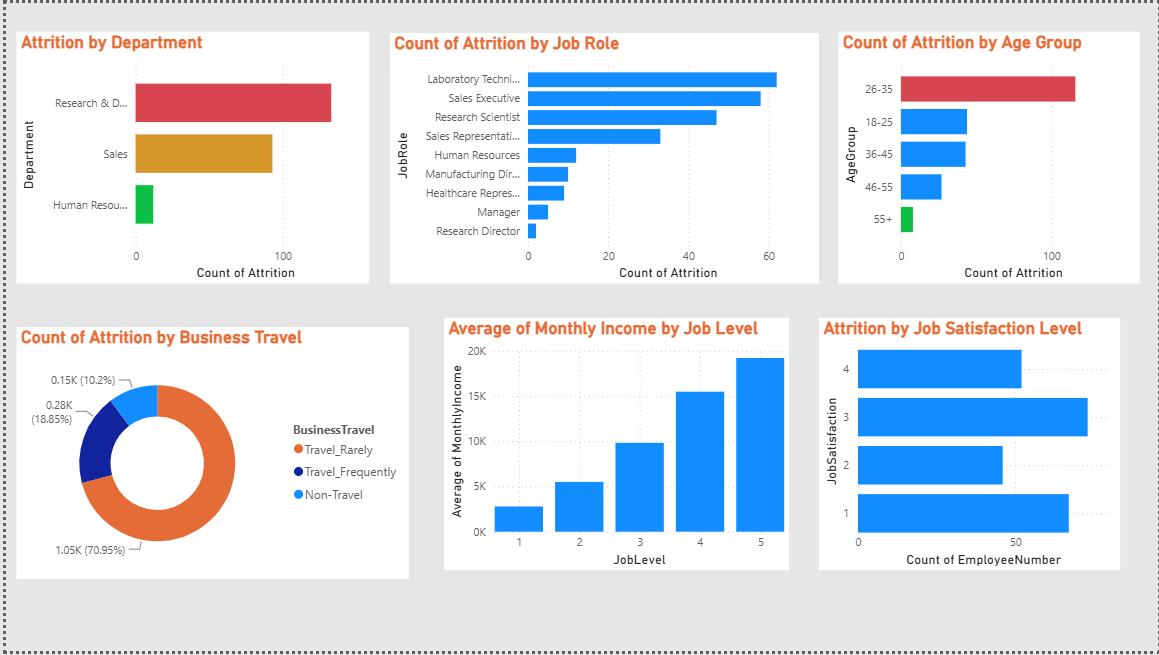

What the dashboard file says about the page in this screenshot:
{"tool":"powerbi","page":{"name":"Attrition Analysis","canvas":[1280,720],"ordinal":1},"visuals":[{"type":"clusteredBarChart","title":"Count of Attrition by Age Group","fields":{"Category":["HR_Analytics_Data.AgeGroup"],"Y":["CountNonNull(HR_Analytics_Data.Attrition)"]},"box":[925.4,31.8,334.6,280.1],"z":0},{"type":"barChart","title":"Count of Attrition by Job Role","fields":{"Y":["CountNonNull(HR_Analytics_Data.Attrition)"],"Category":["HR_Analytics_Data.JobRole"]},"box":[427,33.3,477,278.6],"z":1000},{"type":"donutChart","title":"Count of Attrition by Business Travel","fields":{"Category":["HR_Analytics_Data.BusinessTravel"],"Y":["CountNonNull(HR_Analytics_Data.Attrition)"]},"box":[12.1,360.4,436.1,280.1],"z":2000},{"type":"clusteredColumnChart","title":"Average of Monthly Income by Job Level","fields":{"Category":["HR_Analytics_Data.JobLevel"],"Y":["Avg(HR_Analytics_Data.MonthlyIncome)"]},"box":[486.1,349.8,383.1,280.1],"z":3000},{"type":"clusteredBarChart","title":"Attrition by Department","fields":{"Category":["HR_Analytics_Data.Department"],"Y":["CountNonNull(HR_Analytics_Data.Attrition)"]},"box":[12.1,31.8,392.2,280.1],"z":4000},{"type":"clusteredBarChart","title":"Attrition by Job Satisfaction Level","fields":{"Category":["HR_Analytics_Data.JobSatisfaction"],"Y":["CountNonNull(HR_Analytics_Data.EmployeeNumber)"]},"box":[904,349.8,334.6,280.1],"z":5000}]}

Visuals, with their boxes in screenshot pixels (x1, y1, x2, y2), scaled from the page's 1280x720 canvas onto the 1159x655 screenshot:
"Count of Attrition by Age Group" clusteredBarChart: [838,29,1141,284]
"Count of Attrition by Job Role" barChart: [387,30,819,284]
"Count of Attrition by Business Travel" donutChart: [11,328,406,583]
"Average of Monthly Income by Job Level" clusteredColumnChart: [440,318,787,573]
"Attrition by Department" clusteredBarChart: [11,29,366,284]
"Attrition by Job Satisfaction Level" clusteredBarChart: [819,318,1122,573]
